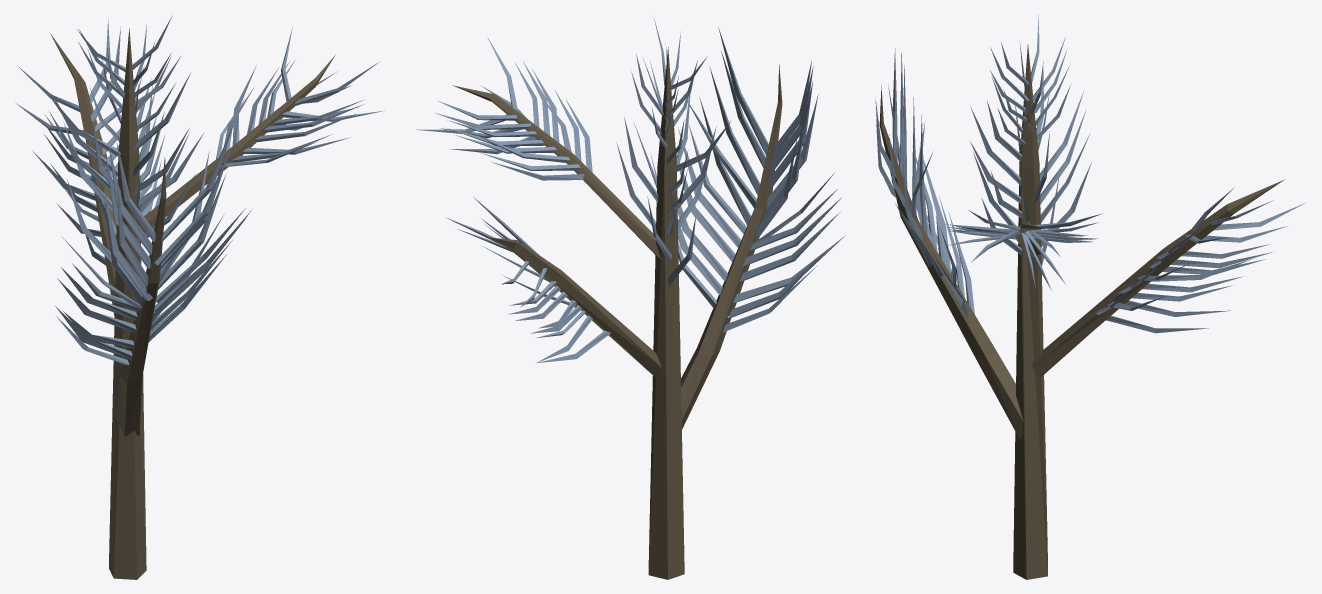
The model's file is Blue_Spruce_2_2.fbx.
3 renders of one model, left to right at view 1: azimuth 30°, elevation 25°; view 2: azimuth 150°, elevation 25°; view 3: azimuth 270°, elevation 25°, orthographic. The views are drawn at different scales.
Parts seen in each view (by area): view 1: Spurce_2_2; view 2: Spurce_2_2; view 3: Spurce_2_2.
Boxes of the visible parts, left/top/right/bottom form: Spurce_2_2: left=16, top=17, right=384, bottom=579; Spurce_2_2: left=416, top=17, right=845, bottom=579; Spurce_2_2: left=875, top=14, right=1306, bottom=579.
Size of the model in its own units: 109 by 158 by 114.
